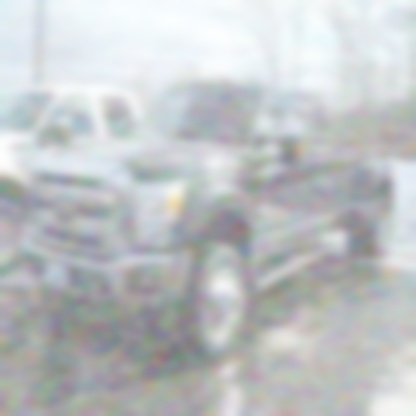Vehicle: (23, 76, 396, 370)
